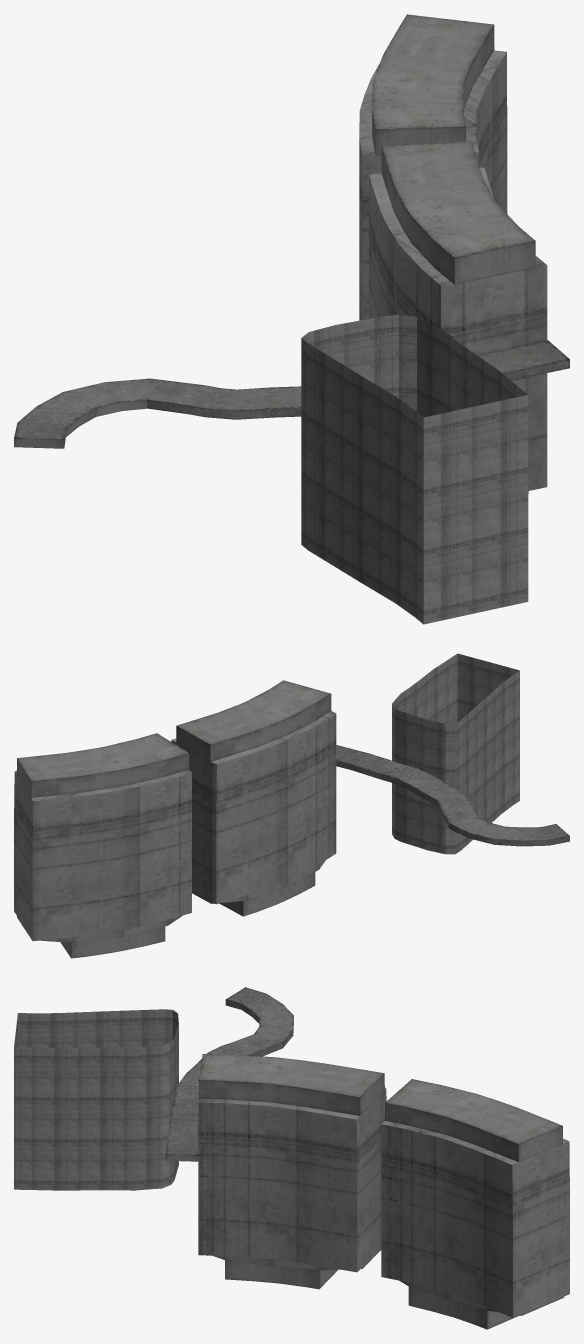
The model's file is SM_BetonDarme_01_06.fbx.
3 renders of one model, top to bottom at view 1: azimuth 30°, elevation 25°; view 2: azimuth 150°, elevation 25°; view 3: azimuth 270°, elevation 25°, orthographic. The views are drawn at different scales.
Parts seen in each view (by area): view 1: SM_BetonDarme_01_06; view 2: SM_BetonDarme_01_06; view 3: SM_BetonDarme_01_06.
Boxes of the visible parts, x1,y1,x2,y2 form: SM_BetonDarme_01_06: (14, 14, 569, 624); SM_BetonDarme_01_06: (14, 653, 569, 958); SM_BetonDarme_01_06: (14, 987, 569, 1329).
Bounding box in the file's own units: 12221 × 4912 × 12430.
